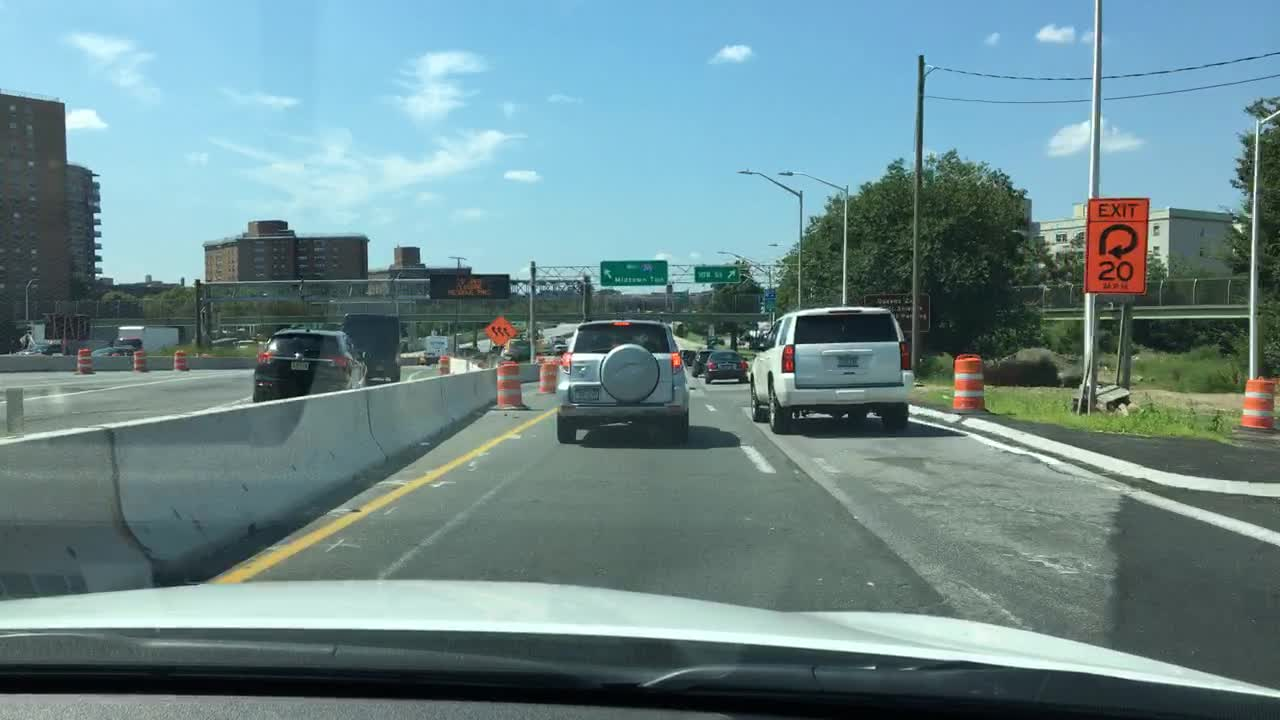car: (744, 307, 911, 432), (553, 320, 688, 442), (253, 329, 361, 398), (339, 309, 401, 383), (702, 351, 746, 385), (28, 341, 71, 359), (739, 327, 766, 354), (688, 349, 712, 376), (89, 344, 131, 356), (550, 337, 568, 354), (678, 349, 693, 368), (535, 341, 552, 356)
traffic sign: (1085, 199, 1144, 293), (860, 290, 930, 334), (427, 273, 511, 300), (597, 258, 668, 285), (482, 314, 518, 347), (692, 263, 739, 283), (754, 290, 773, 312)
truck: (111, 324, 179, 354), (420, 331, 450, 364)
